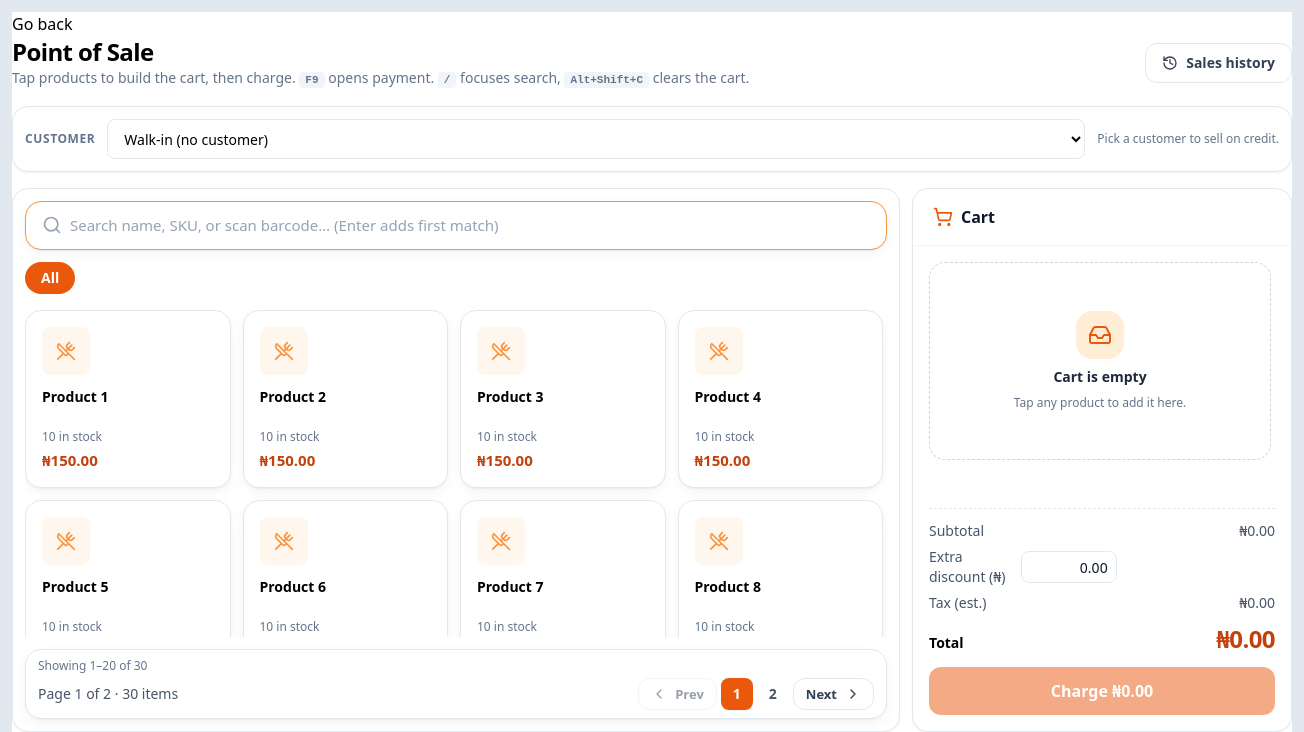
it: PosPage product grid › shows a bounded desktop page with a working page strip
Expected: the text "Product 1" is shown, x1=42 y1=386 x2=108 y2=406
Expected: the text "Product 21" is not shown
Click the button with aria-label "Next page" at (833,694), box x1=793 y1=678 x2=874 y2=710
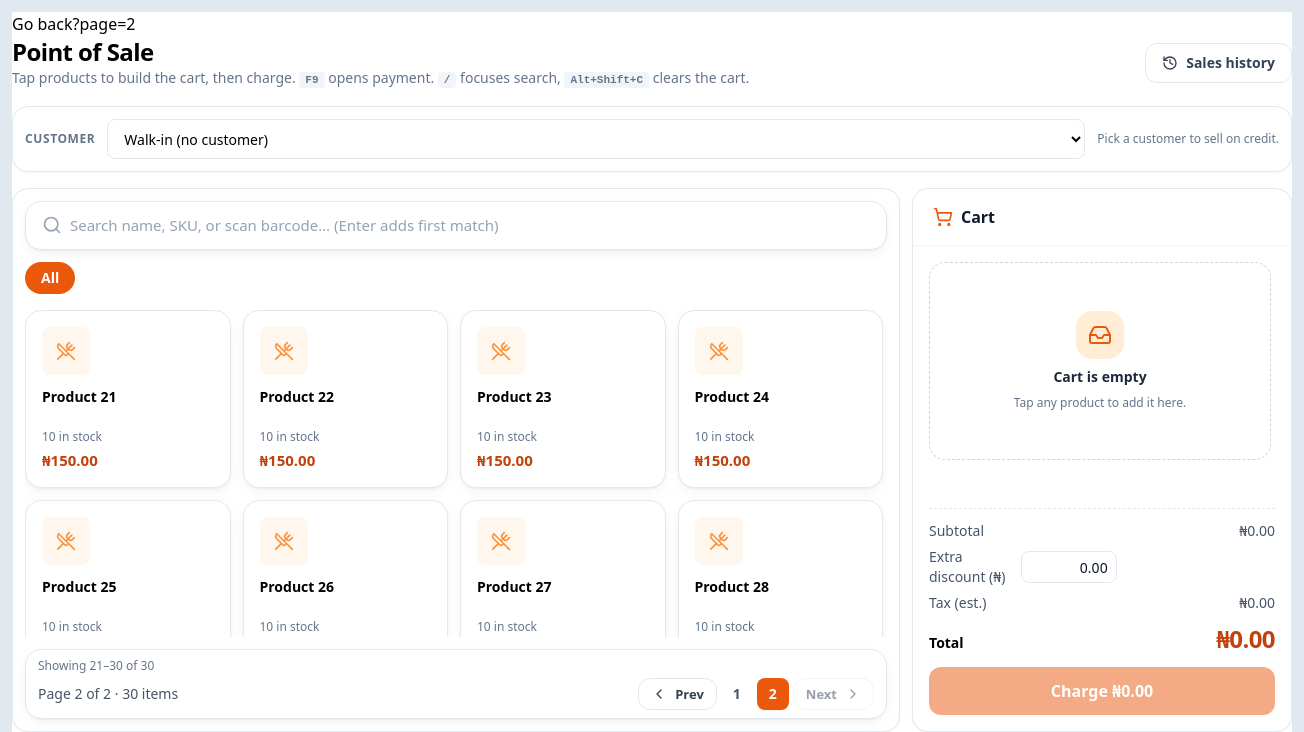
Result: the text "Product 26" is shown at x1=260 y1=577 x2=334 y2=596
Result: the button "Product 1" is gone
Result: the text "Page 2 of 2 · 30 items" is shown at x1=38 y1=684 x2=178 y2=704
Click the button with aria-label "Previous page" at (678,694), box x1=638 y1=678 x2=717 y2=710
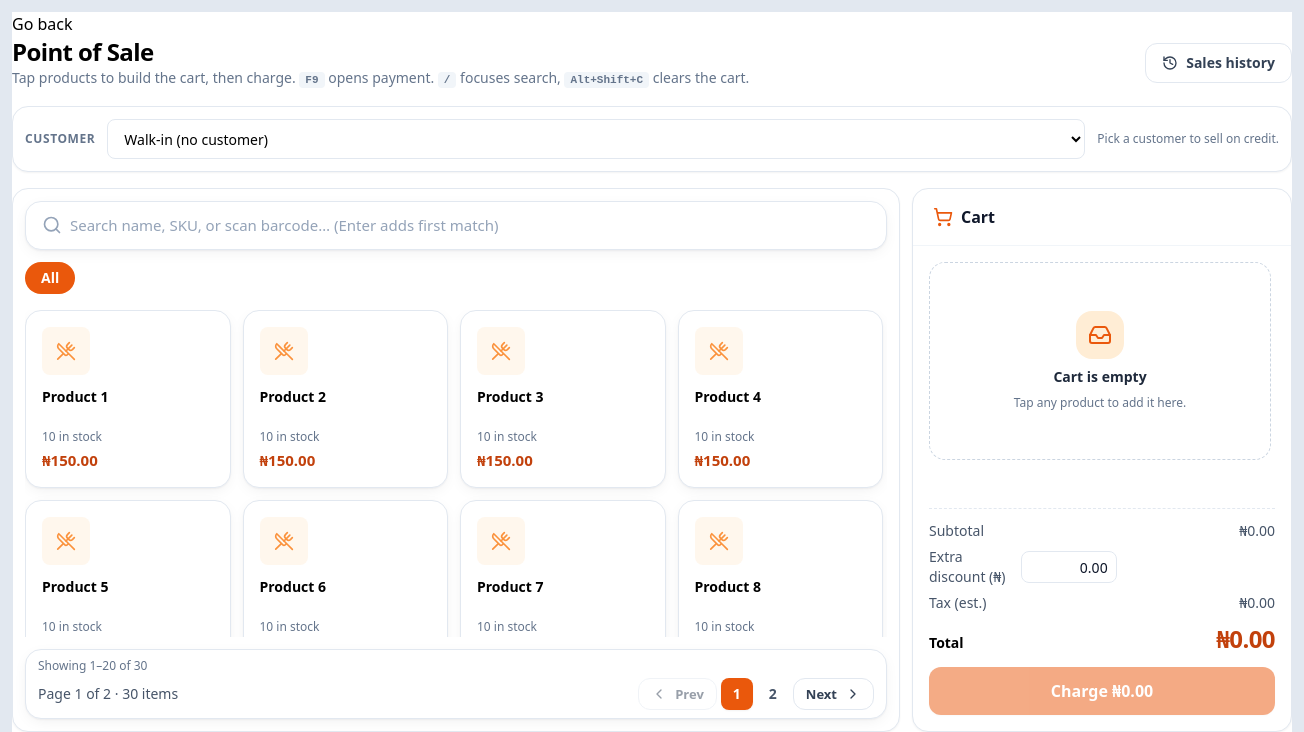
Result: the text "Product 1" is shown at x1=42 y1=386 x2=108 y2=406
